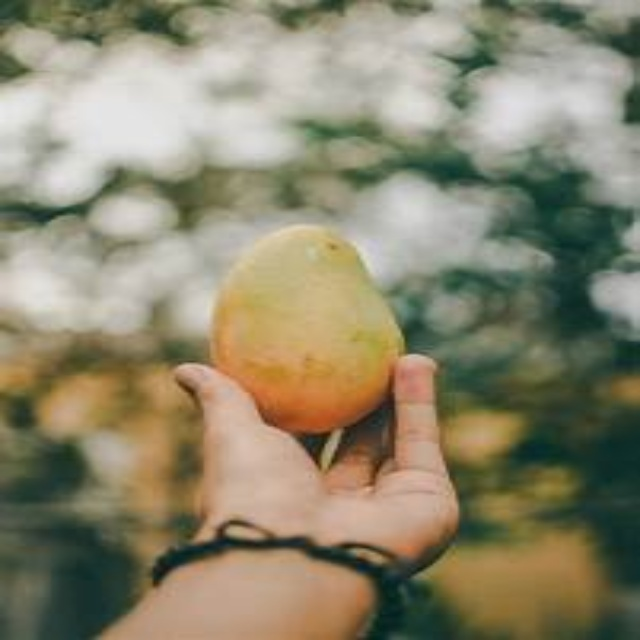mango: (205, 223, 405, 431)
